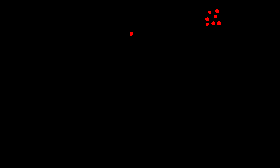Target: (215, 9, 219, 13), (205, 17, 209, 21), (211, 21, 215, 25), (217, 21, 221, 25), (130, 32, 133, 36), (208, 11, 211, 14), (214, 15, 217, 18), (206, 23, 209, 26)
